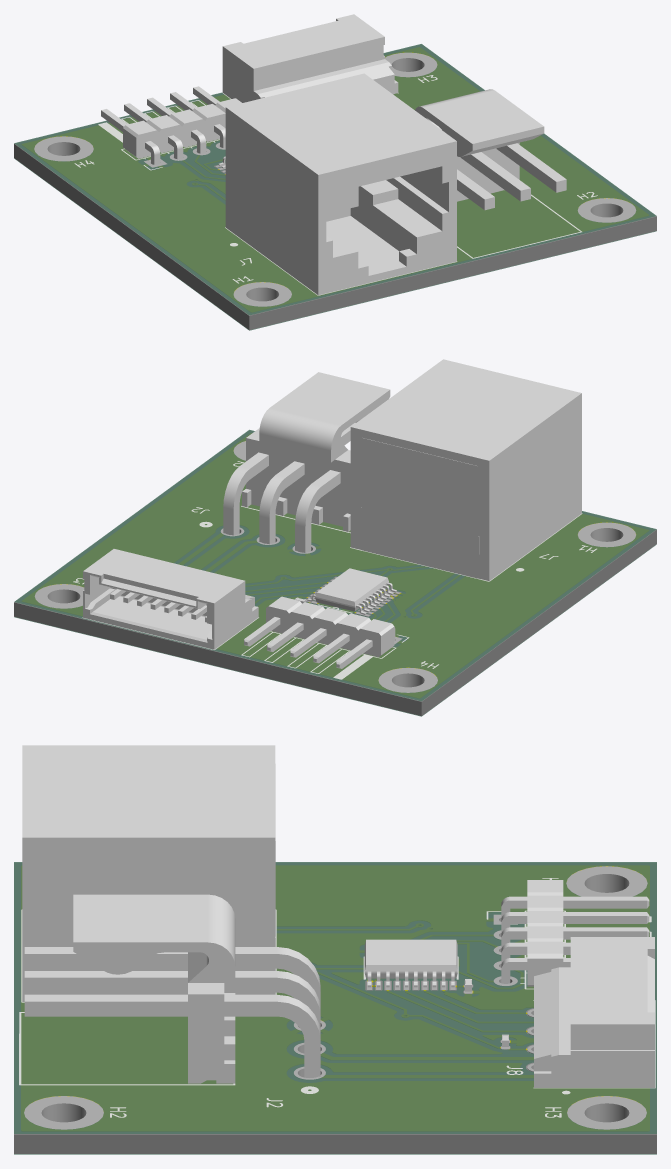
File: Motor_Joint_Board.glb
3 renders of one model, top to bottom at view 1: azimuth 30°, elevation 25°; view 2: azimuth 150°, elevation 25°; view 3: azimuth 270°, elevation 25°, orthographic. The views are drawn at different scales.
Visible parts, largest first — view 1: J7, =>[0:1:1:16], =>[0:1:1:11], =>[0:1:1:18], J8, =>[0:1:1:2], J9, =>[0:1:1:12], =>[0:1:1:14], =>[0:1:1:17]; view 2: =>[0:1:1:16], J7, =>[0:1:1:11], =>[0:1:1:2], =>[0:1:1:18], J8, J9, =>[0:1:1:12], U2, =>[0:1:1:14], =>[0:1:1:17]; view 3: =>[0:1:1:16], =>[0:1:1:11], J7, =>[0:1:1:2], =>[0:1:1:18], J8, J9, =>[0:1:1:12], U2, =>[0:1:1:14], =>[0:1:1:17].
Boxes of the visible parts, x1,y1,x2,y2 form: J7: [225, 73, 456, 295]; =>[0:1:1:16]: [14, 44, 656, 315]; =>[0:1:1:11]: [22, 47, 648, 311]; =>[0:1:1:18]: [14, 45, 656, 330]; J8: [222, 14, 398, 102]; =>[0:1:1:2]: [415, 89, 566, 210]; J9: [101, 86, 241, 164]; =>[0:1:1:12]: [34, 52, 636, 306]; =>[0:1:1:14]: [74, 75, 597, 295]; =>[0:1:1:17]: [14, 158, 656, 330]; =>[0:1:1:16]: [14, 429, 656, 701]; J7: [350, 359, 581, 581]; =>[0:1:1:11]: [22, 433, 648, 697]; =>[0:1:1:2]: [223, 372, 390, 552]; =>[0:1:1:18]: [14, 431, 656, 715]; J8: [83, 549, 258, 649]; J9: [244, 596, 395, 668]; =>[0:1:1:12]: [34, 441, 635, 692]; U2: [307, 568, 396, 614]; =>[0:1:1:14]: [73, 461, 596, 679]; =>[0:1:1:17]: [14, 544, 656, 716]; =>[0:1:1:16]: [14, 862, 656, 1133]; =>[0:1:1:11]: [21, 866, 649, 1130]; J7: [22, 745, 275, 1001]; =>[0:1:1:2]: [24, 894, 320, 1083]; =>[0:1:1:18]: [14, 863, 656, 1153]; J8: [534, 937, 654, 1087]; J9: [501, 880, 649, 986]; =>[0:1:1:12]: [24, 866, 647, 1129]; U2: [364, 939, 457, 987]; =>[0:1:1:14]: [19, 878, 655, 1117]; =>[0:1:1:17]: [14, 1154, 656, 1154].
Bounding box in the file's own units: 0.045 × 0.0166 × 0.045.
